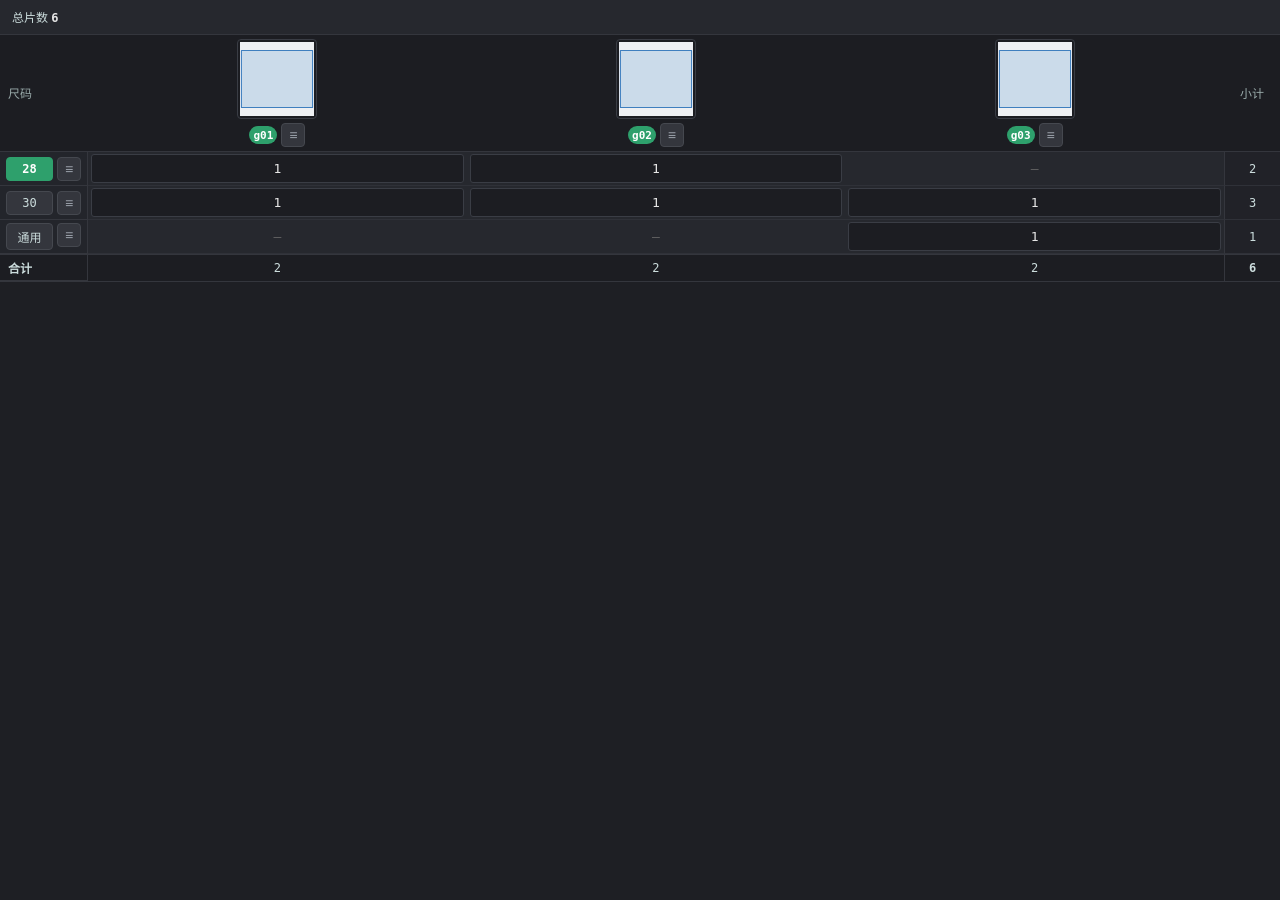
Scenario: QtyMatrix (US-002 转置) 列级整列设值（工具条整表重置已拆） › 弹层标题与 aria 为「整列设值」口径（转置后批量对象 = 该裁片全部尺码）
Step 1. Click the button with test id "qty-rowfill-g01" → {"x": 293, "y": 135}, box [281, 123, 305, 147]
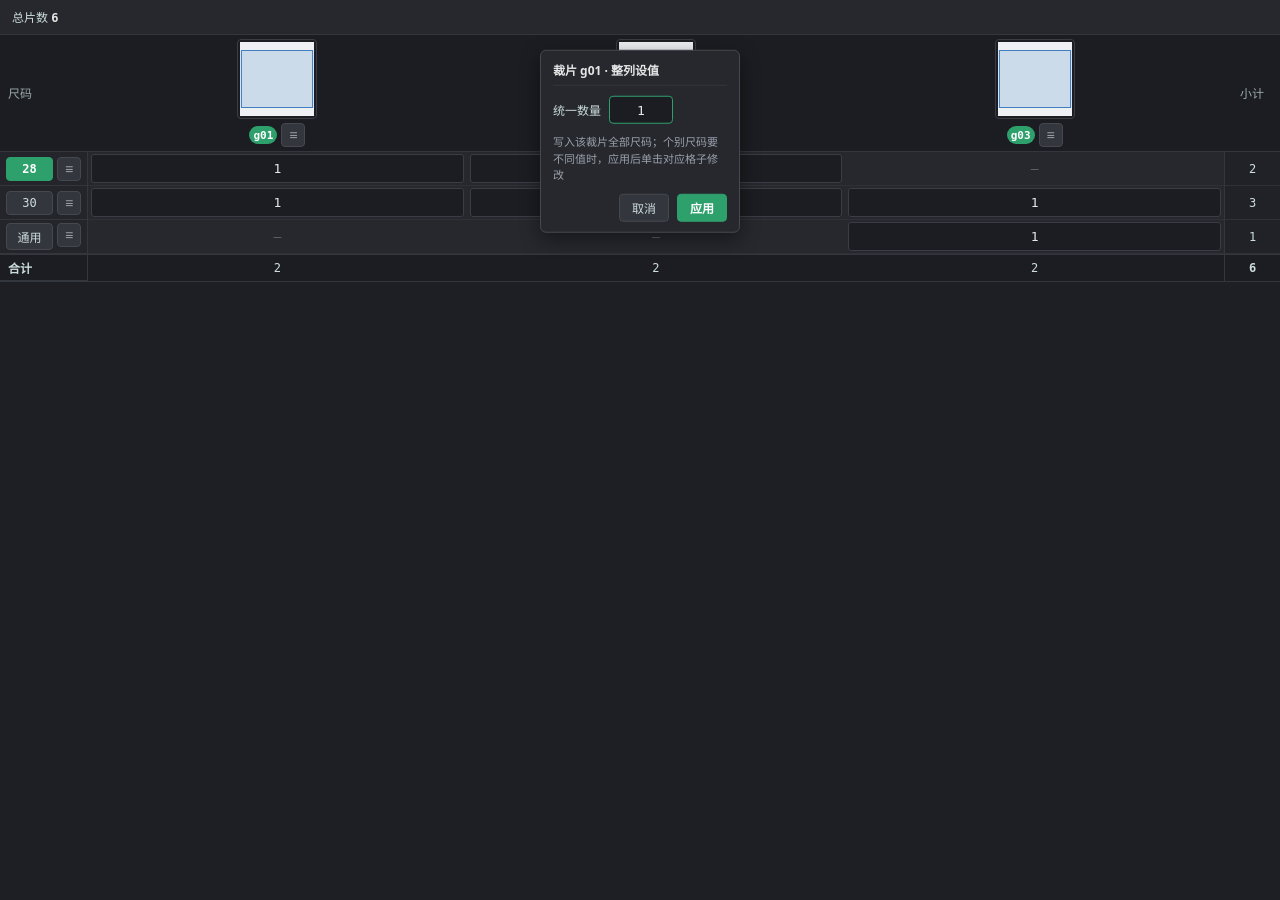
Check: the text "裁片 g01 · 整列设值" is shown, box [553, 61, 727, 86]
